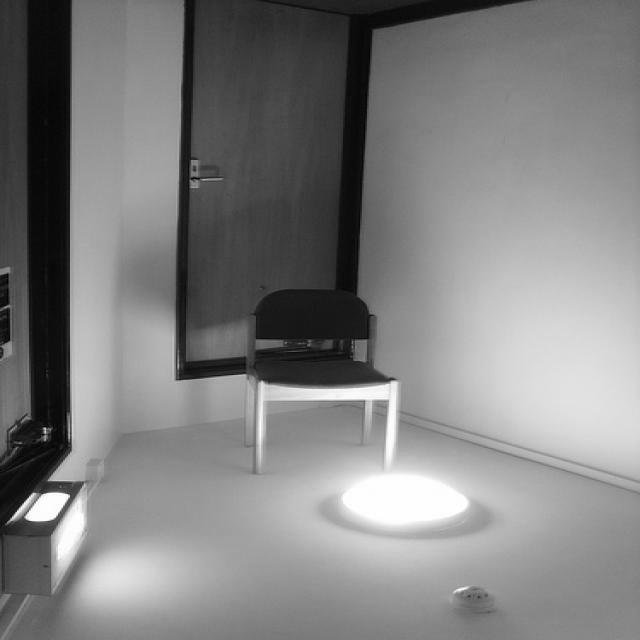chair: (237, 283, 403, 474)
